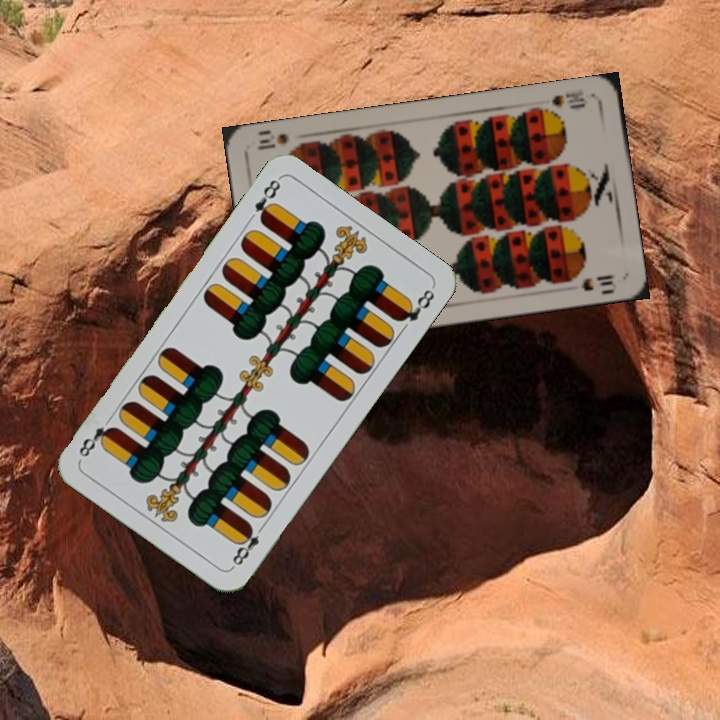E8: (228, 520, 268, 571), (250, 174, 284, 227)
S10: (548, 85, 590, 112)
